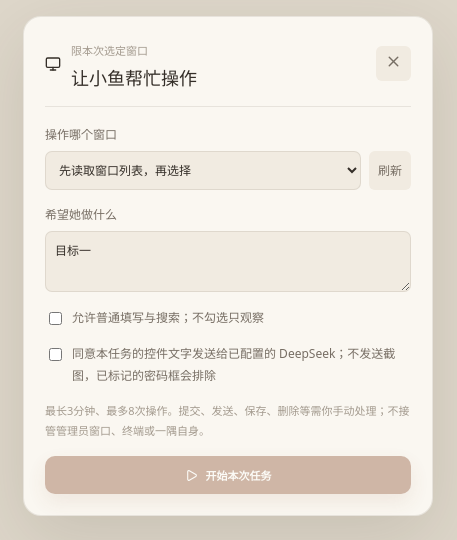
Test: explicit takeover start › does not grant access and clears consent when the requested target changes
Click the checkbox labelled "同意本任务的控件文字发送给已配置的 DeepSeek；不发送截图，已标记的密码框会排除" at (56, 355), box top-left (49, 348), bottom-right (62, 361)
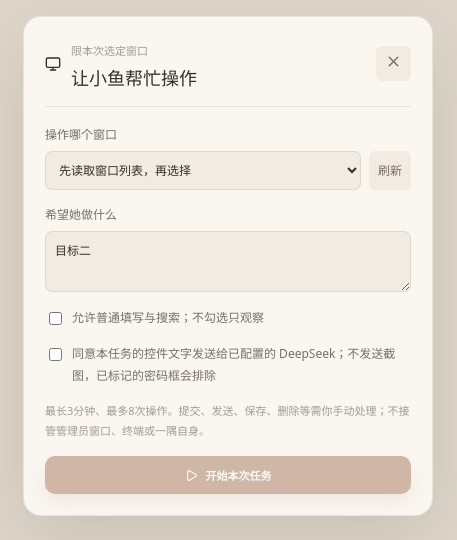
Expected: the text box holds "目标二", top-left (45, 231), bottom-right (411, 292)
